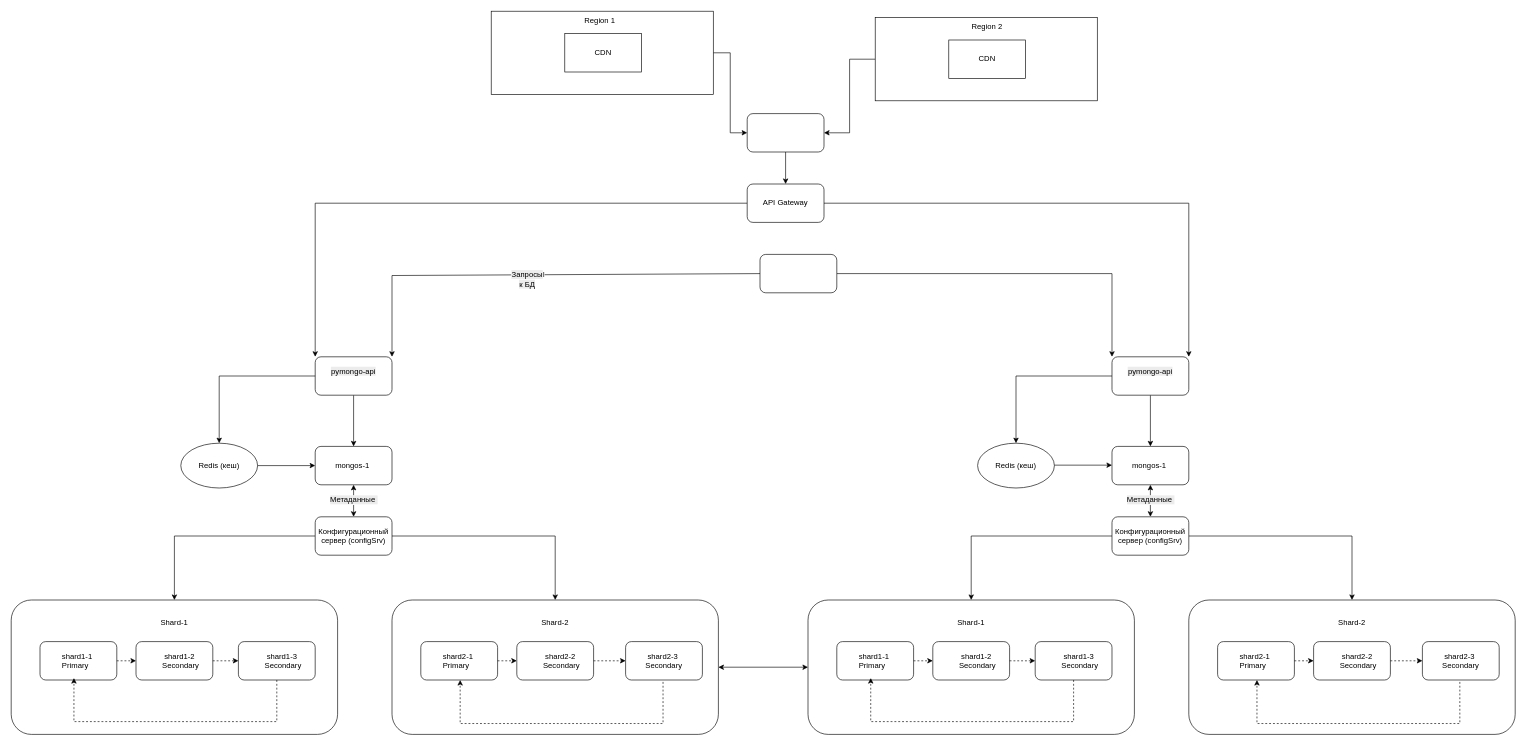
Image size: 1526x746. Some labels were removed from this diagram. Each missing label, with the centre of its shape:
"Consul Service Discovery" goes at (x=798, y=273).
"Сайт React/Nginx" goes at (x=785, y=132).
